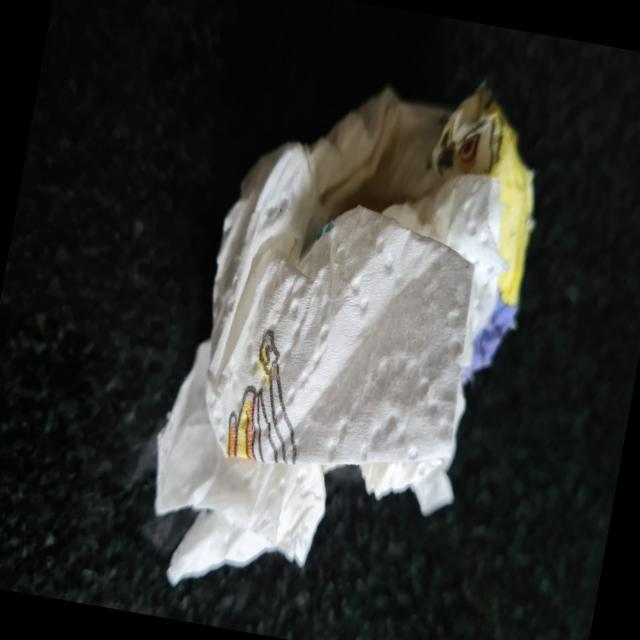organic waste: (128, 9, 566, 630)
